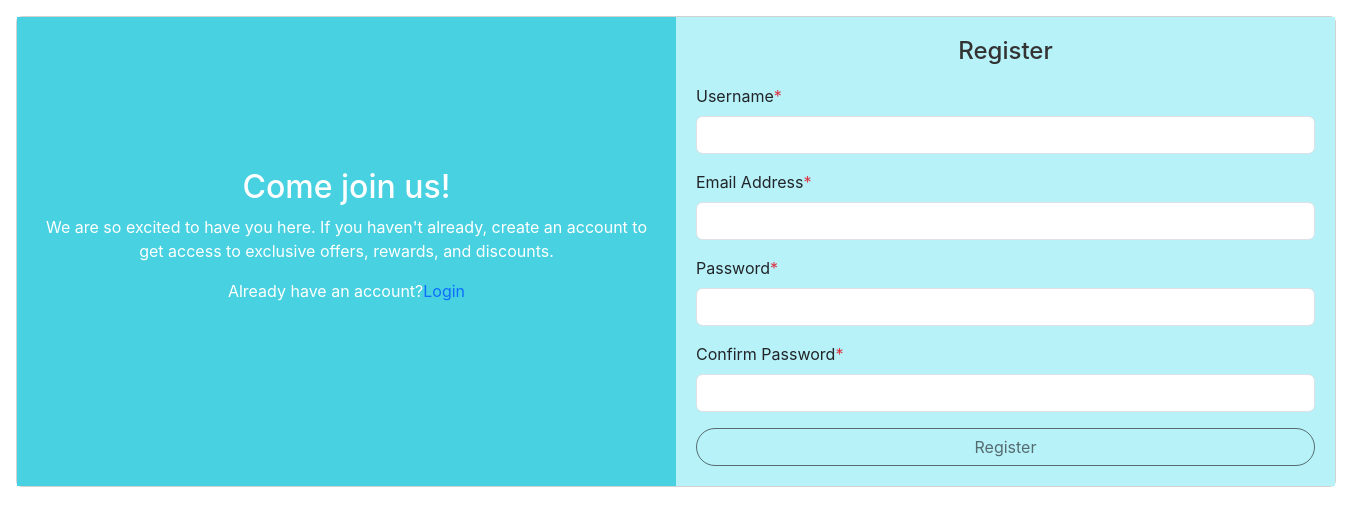
Test: Register component › displays error message if username is invalid
In the field labelled "Username*": (1006, 135) [696,116,1315,154], type "invalid username!"
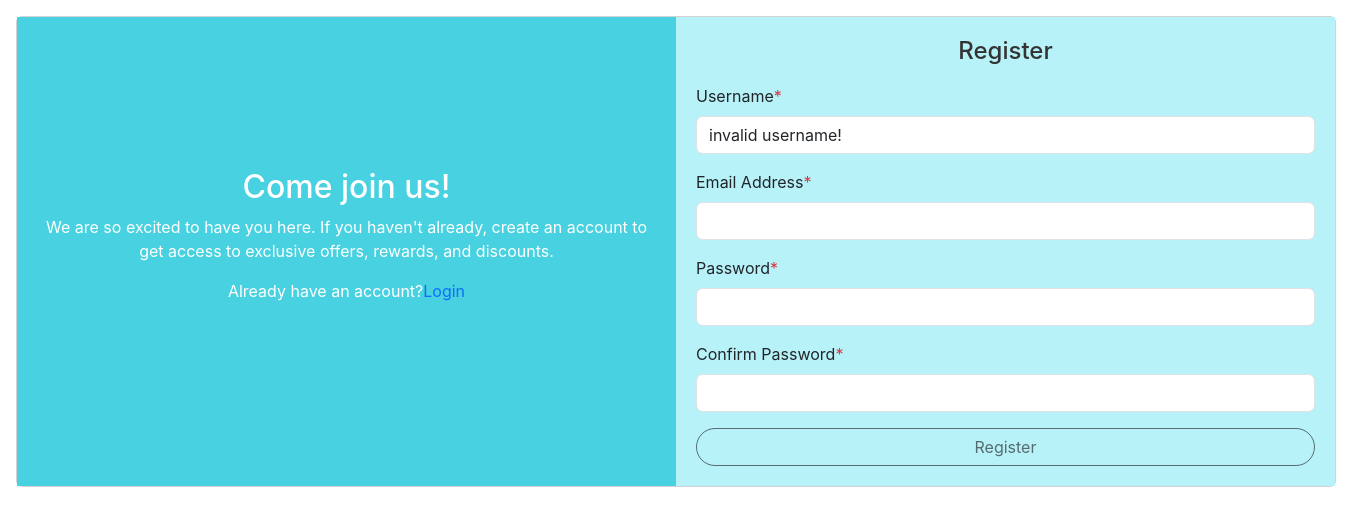
Leave the field labelled "Username*", box [696,116,1315,154]
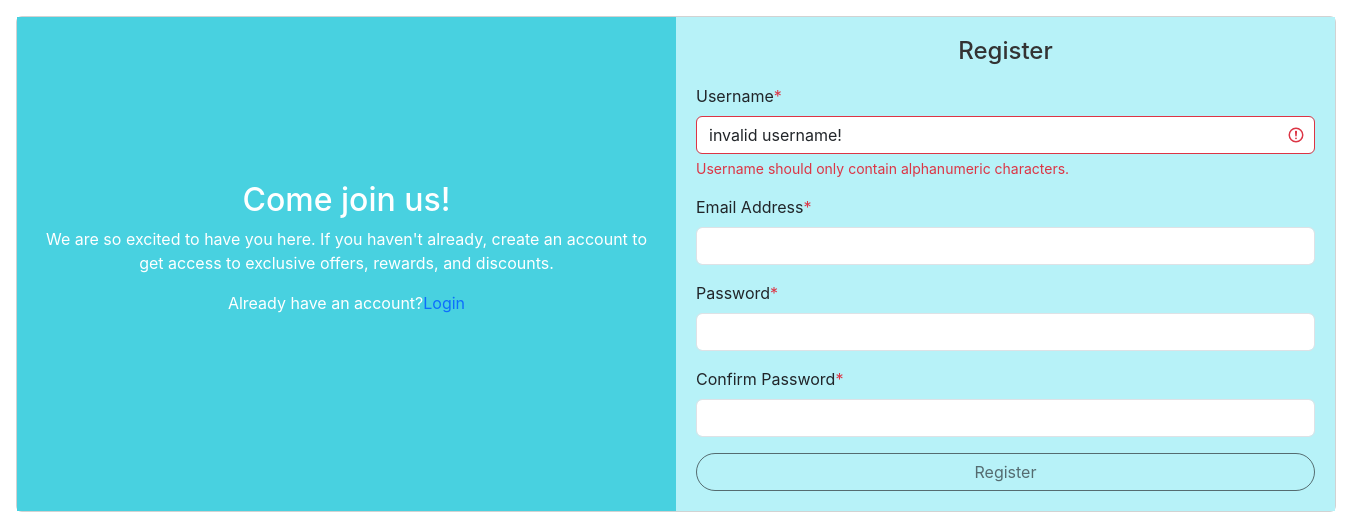
Check: the text "Username should only contain alphanumeric characters." is shown, box [696,160,1069,177]
